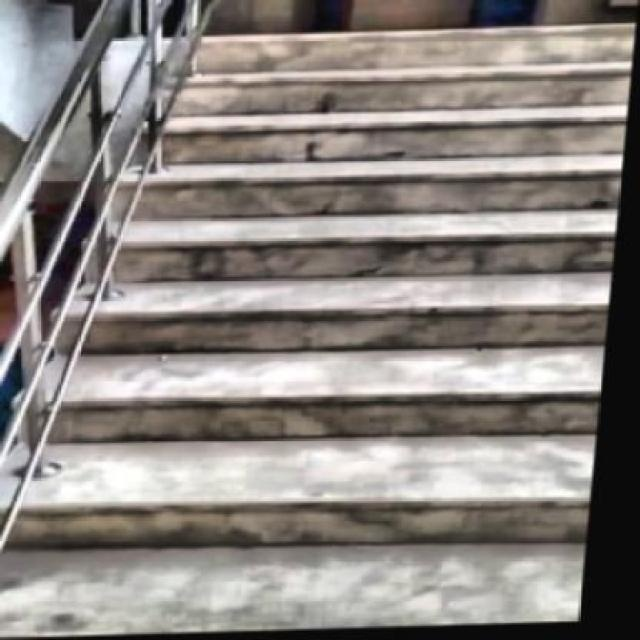stair: (10, 18, 635, 638)
